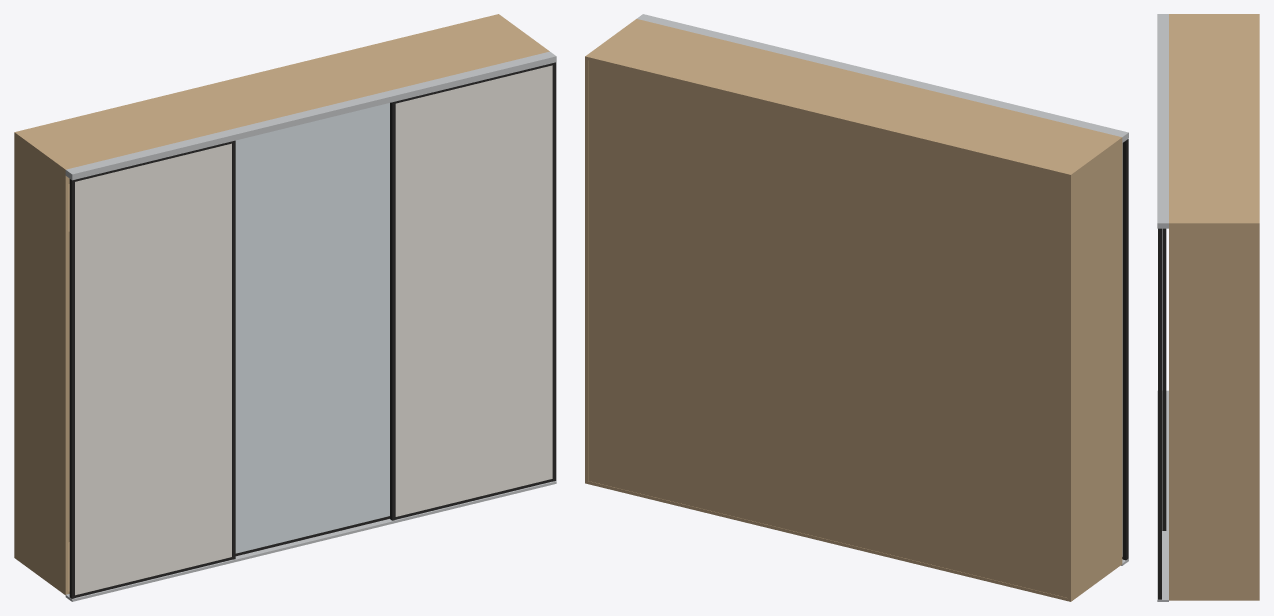
Rendered from 14_szafa_wnekowa_300.glb.
3 views of the same model, side by side, from view 1: azimuth 30°, elevation 25°; view 2: azimuth 150°, elevation 25°; view 3: azimuth 270°, elevation 25° (orthographic). The views are drawn at different scales.
Visible parts, largest first — view 1: Front_panel_3, Front_panel_1, Lustro_2, Korpus, Uchwyty, Prowadnice; view 2: Korpus, Prowadnice, Uchwyty; view 3: Korpus, Prowadnice, Uchwyty.
Part boxes in pixels (x1,y1,x2,y2): Front_panel_3: (395,65,552,516); Front_panel_1: (75,143,231,595); Lustro_2: (235,103,389,553); Korpus: (14,14,549,594); Uchwyty: (69,62,556,598); Prowadnice: (65,51,556,601); Korpus: (585,19,1122,601); Prowadnice: (637,14,1128,565); Uchwyty: (1122,139,1128,560); Korpus: (1169,14,1259,600); Prowadnice: (1157,14,1168,601); Uchwyty: (1158,228,1166,599).
Bounding box in the file's own units: 3 × 2.53 × 0.62.
